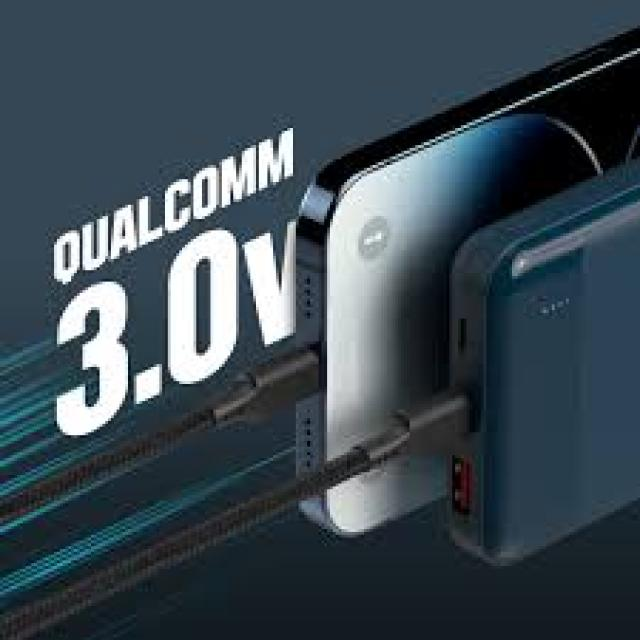portable-charger: (446, 156, 640, 565)
